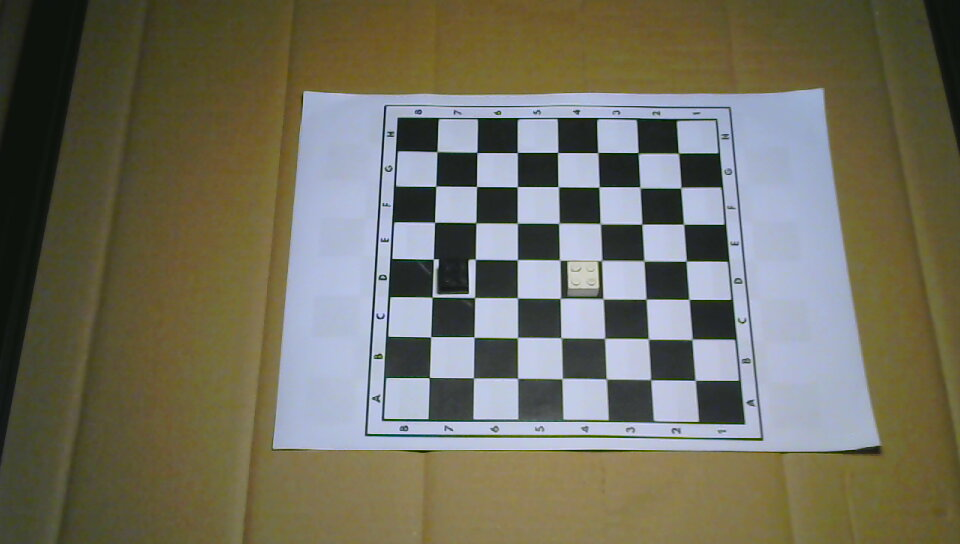bp: (436, 258, 468, 294)
wp: (565, 261, 599, 296)
